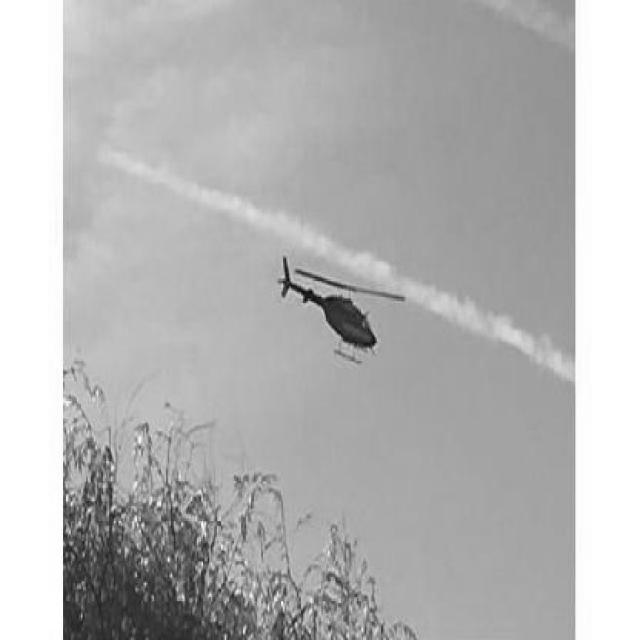helikopter: (264, 247, 414, 381)
